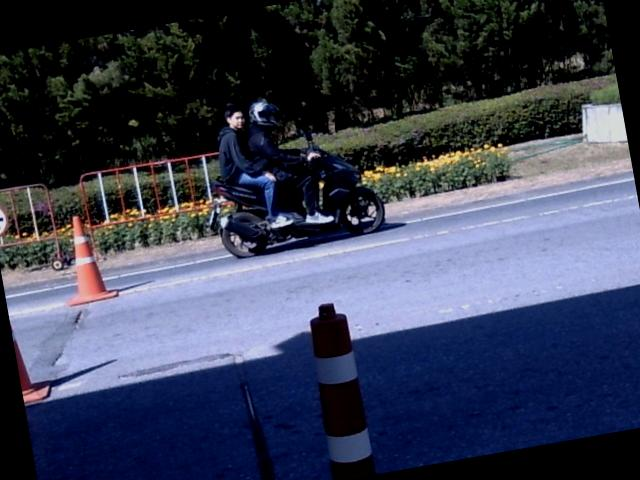helmet: (249, 98, 278, 122)
motor: (209, 150, 383, 257)
no-helmet: (224, 108, 247, 131)
person: (246, 98, 332, 222), (217, 104, 291, 225)
